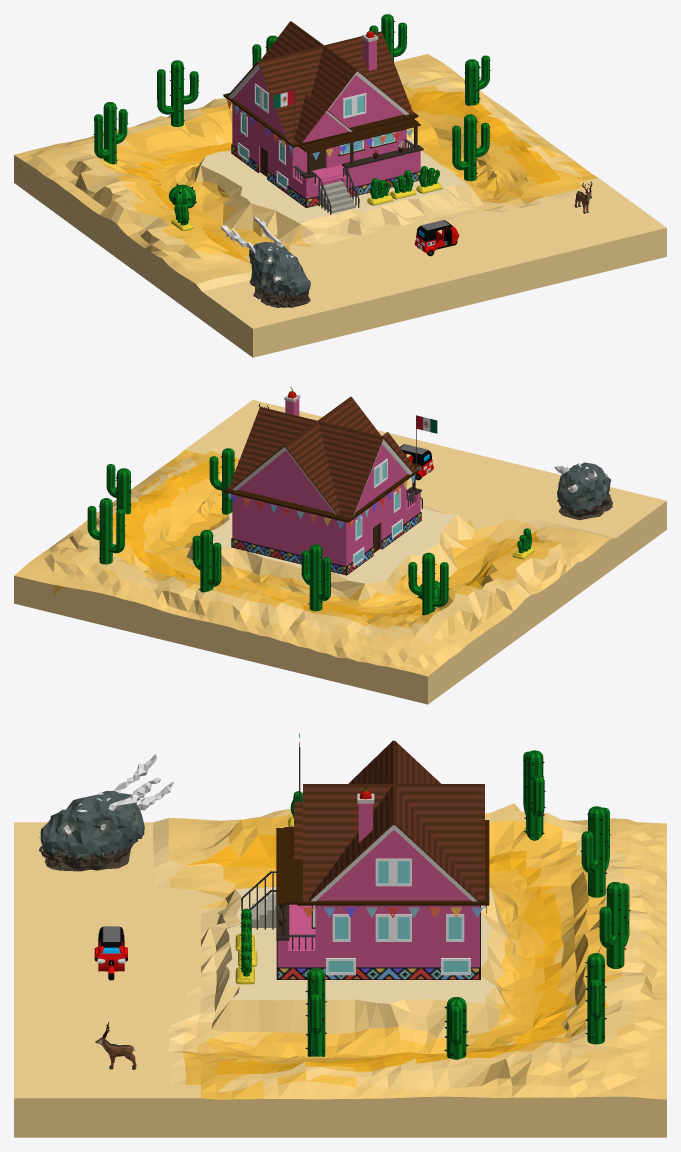
3 renders of one model, top to bottom at view 1: azimuth 30°, elevation 25°; view 2: azimuth 150°, elevation 25°; view 3: azimuth 270°, elevation 25°, orthographic. The views are drawn at different scales.
Visible parts, largest first — view 1: Cube.001, Cube.1005, OBJRANDOM_METEORITE, Cylinder.044, Cylinder.037, Cylinder.045, VEHICLES_TUC_TUC, Cylinder.038, Cylinder.042, Cylinder.039, Cylinder.041; view 2: Cube.001, Cube.1005, OBJRANDOM_METEORITE, Cylinder.042, Cylinder.045, Cylinder.044, Cylinder.043, Cylinder.037, Cylinder.038, VEHICLES_TUC_TUC; view 3: Cube.001, Cube.1005, OBJRANDOM_METEORITE, Cylinder.043, Cylinder.044, Cylinder.045, Cylinder.037, Cylinder.042, VEHICLES_TUC_TUC, Cylinder.038, Cylinder.041, ANIMAL_VENADO.
Boxes of the visible parts, x1,y1,x2,y2 form: Cube.001: (14, 54, 666, 357); Cube.1005: (223, 21, 423, 214); OBJRANDOM_METEORITE: (221, 217, 310, 307); Cylinder.044: (157, 60, 199, 126); Cylinder.037: (451, 114, 490, 181); Cylinder.045: (93, 102, 128, 164); VEHICLES_TUC_TUC: (414, 220, 459, 256); Cylinder.038: (464, 55, 490, 105); Cylinder.042: (369, 14, 407, 61); Cylinder.039: (367, 178, 393, 205); Cylinder.041: (416, 166, 442, 193); Cube.001: (14, 400, 666, 704); Cube.1005: (224, 386, 437, 575); OBJRANDOM_METEORITE: (554, 462, 612, 520); Cylinder.042: (87, 498, 125, 564); Cylinder.045: (408, 552, 449, 615); Cylinder.044: (301, 544, 331, 611); Cylinder.043: (192, 529, 221, 592); Cylinder.037: (209, 448, 239, 514); Cylinder.038: (106, 464, 131, 514); VEHICLES_TUC_TUC: (400, 444, 433, 480); Cube.001: (14, 803, 666, 1137); Cube.1005: (241, 733, 489, 979); OBJRANDOM_METEORITE: (39, 754, 173, 871); Cylinder.043: (598, 882, 630, 968); Cylinder.044: (580, 806, 610, 897); Cylinder.045: (523, 750, 545, 840); Cylinder.037: (305, 968, 326, 1056); Cylinder.042: (585, 953, 606, 1044); VEHICLES_TUC_TUC: (94, 926, 127, 980); Cylinder.038: (444, 997, 468, 1059); Cylinder.041: (235, 941, 254, 984); ANIMAL_VENADO: (95, 1022, 136, 1069).
Bounding box in the file's own units: 4002 × 1686 × 4001.
Materials: 69 (4 with a texture image).
